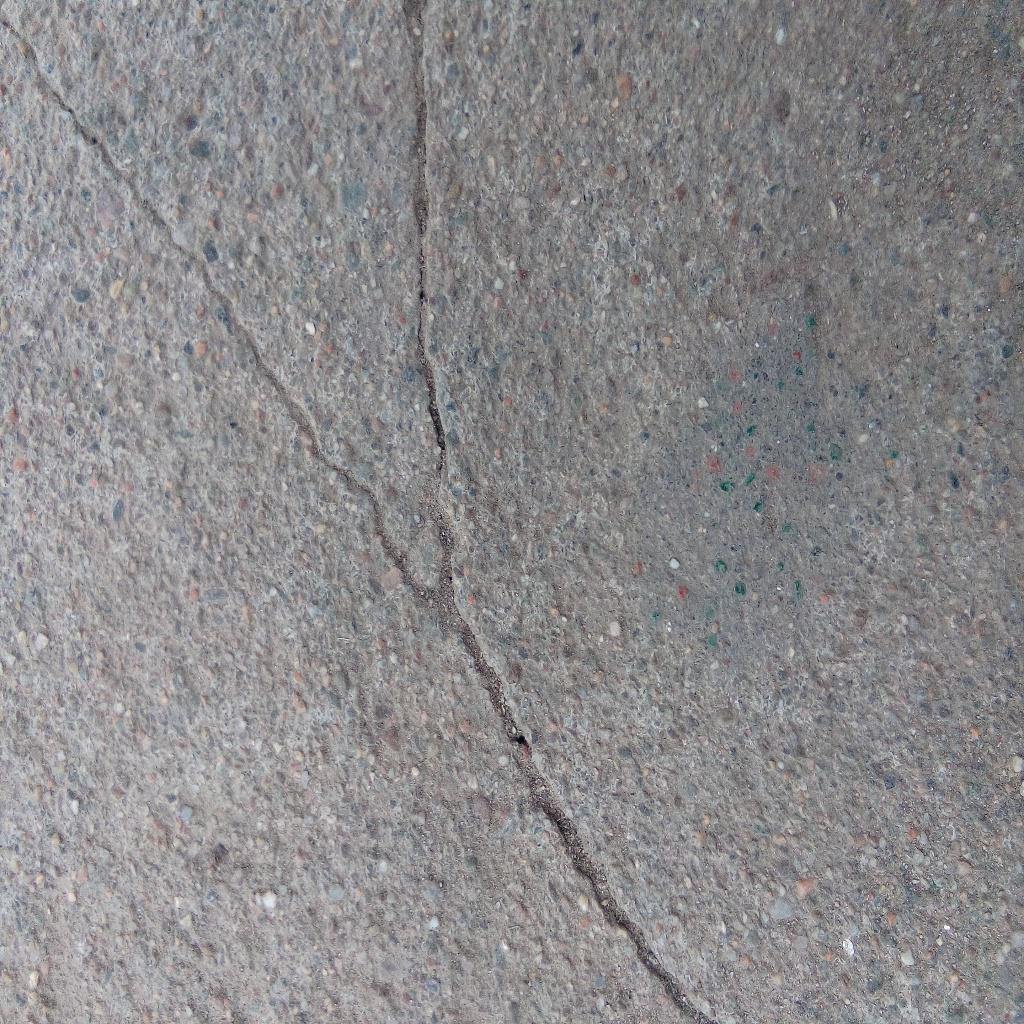Crack: (1, 19, 430, 598), (430, 596, 715, 1024), (404, 1, 458, 598)
